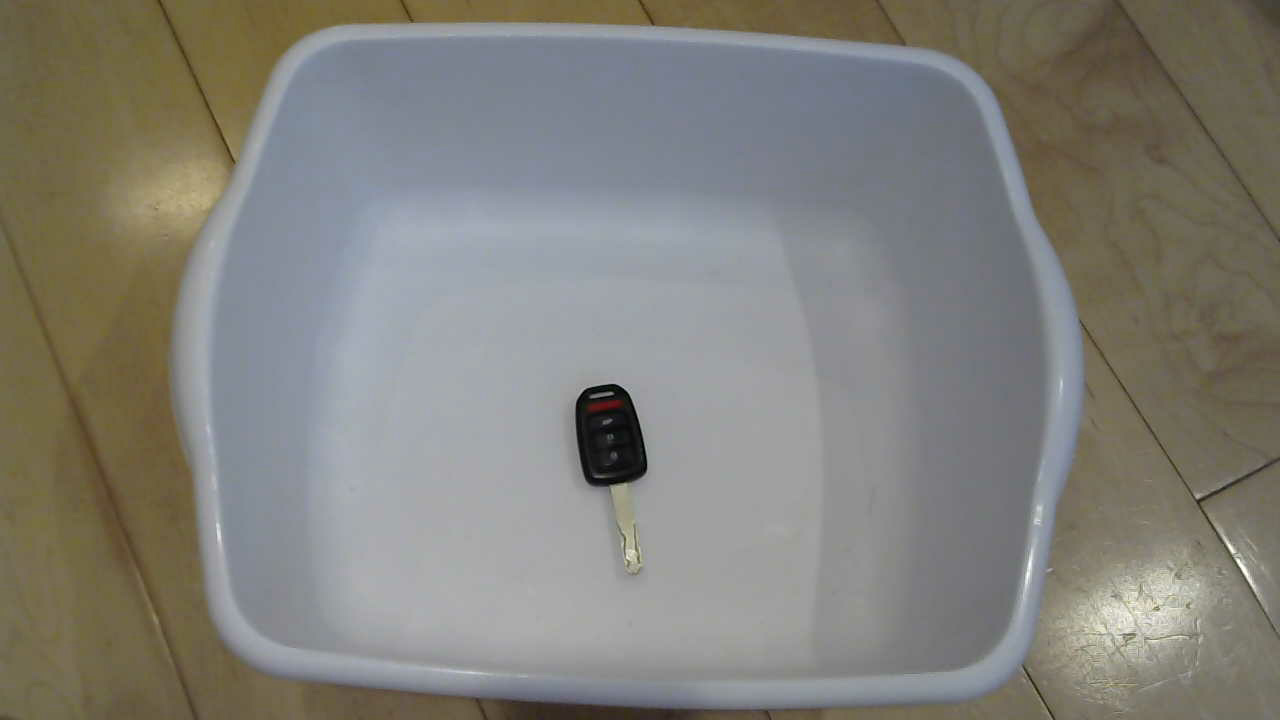key: (571, 372, 681, 578)
